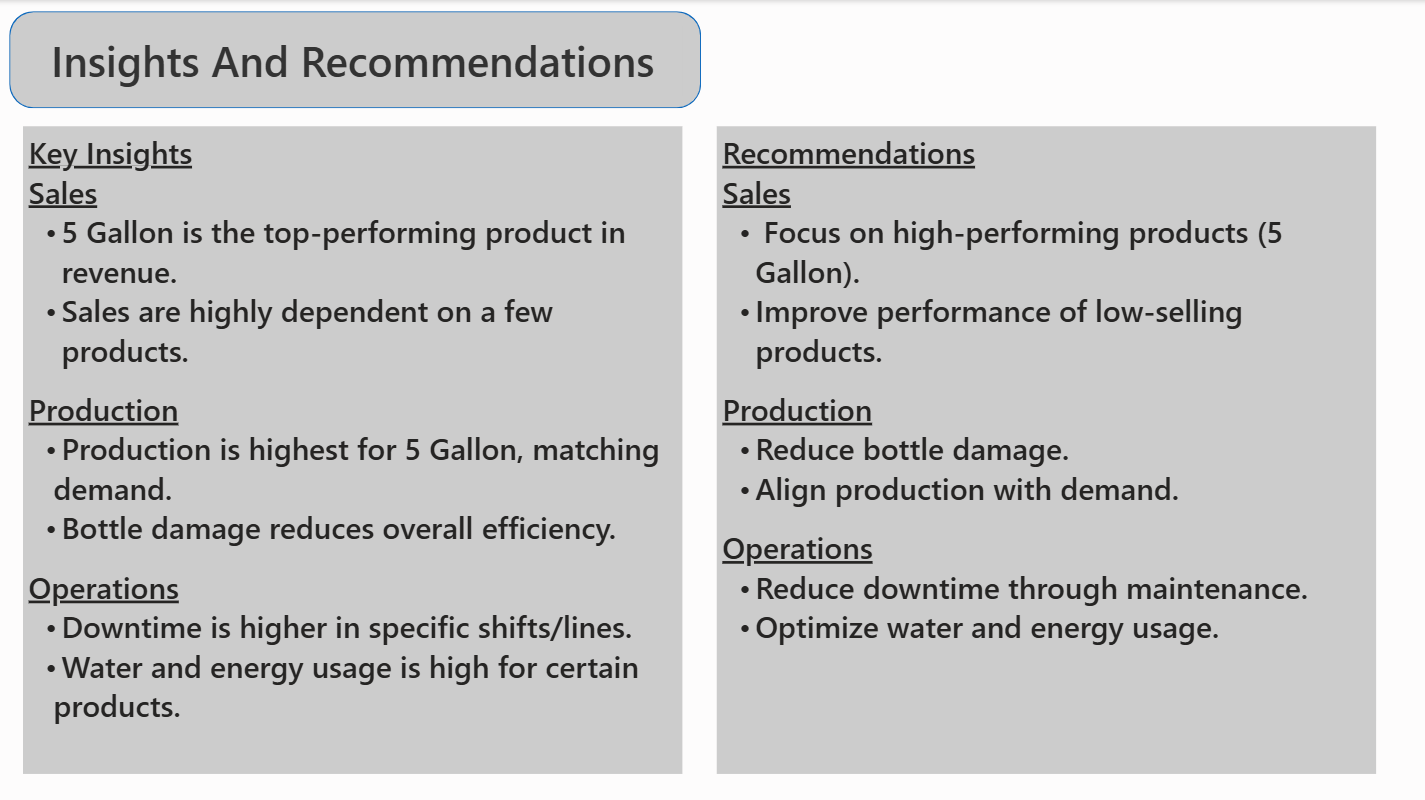

What the dashboard file says about the page in this screenshot:
{"tool":"powerbi","page":{"name":"Insights and Recommendations","canvas":[1280,720],"ordinal":4},"visuals":[{"type":"shape","box":[9.6,9.6,616.1,86.4],"z":0},{"type":"textbox","box":[22,23.3,587.3,61.7],"z":1000},{"type":"textbox","box":[22.1,112.3,587.2,577],"z":2000},{"type":"textbox","box":[640,112.3,587.2,577],"z":3000}]}

Visuals, with their boxes in screenshot pixels (x1, y1, x2, y2), scaled from the page's 1280x720 canvas onto the 1425x800 screenshot:
shape: rect(11, 11, 697, 107)
textbox: rect(24, 26, 678, 94)
textbox: rect(25, 125, 678, 766)
textbox: rect(712, 125, 1366, 766)
